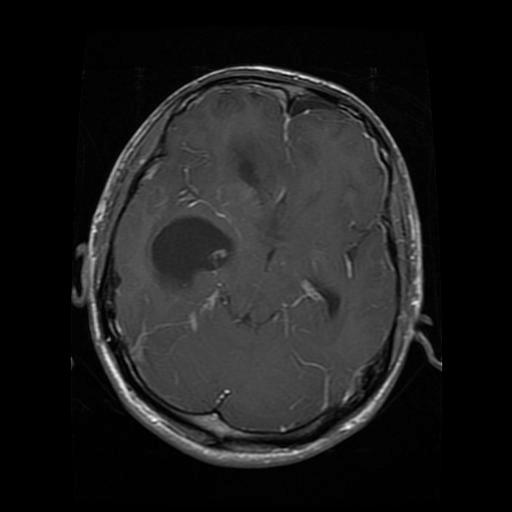Tumour-Glioma: (157, 210, 234, 286)
